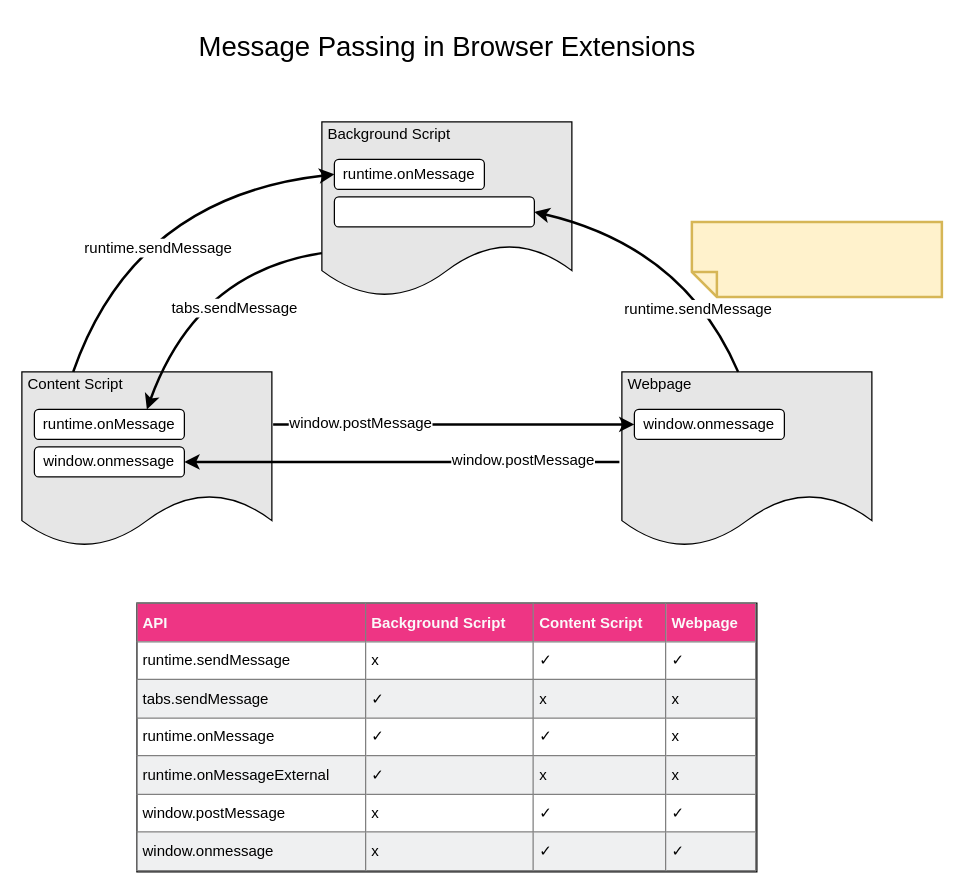
The diagram is 965 pixels wide and 894 high, and some of its shapes have lost their labels. The shapes that lost their labels are listed below. From the top down, each one's centre as x and y in pixels, then its label:
point 433,211: runtime.onMessageExternal
point 816,259: Webpage url should be listed in the manifest externally_connectable config
